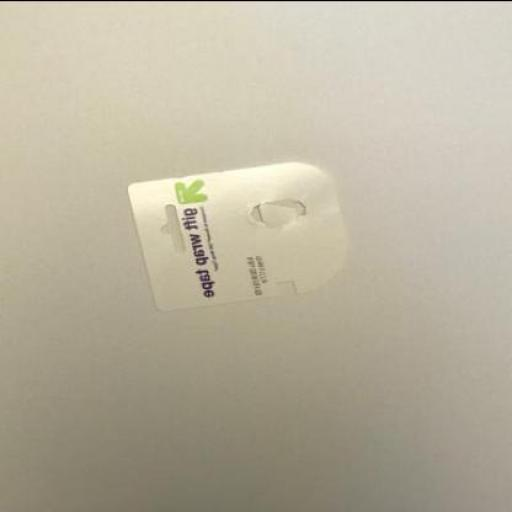cardboard: (125, 158, 344, 308)
paper: (127, 159, 346, 309)
